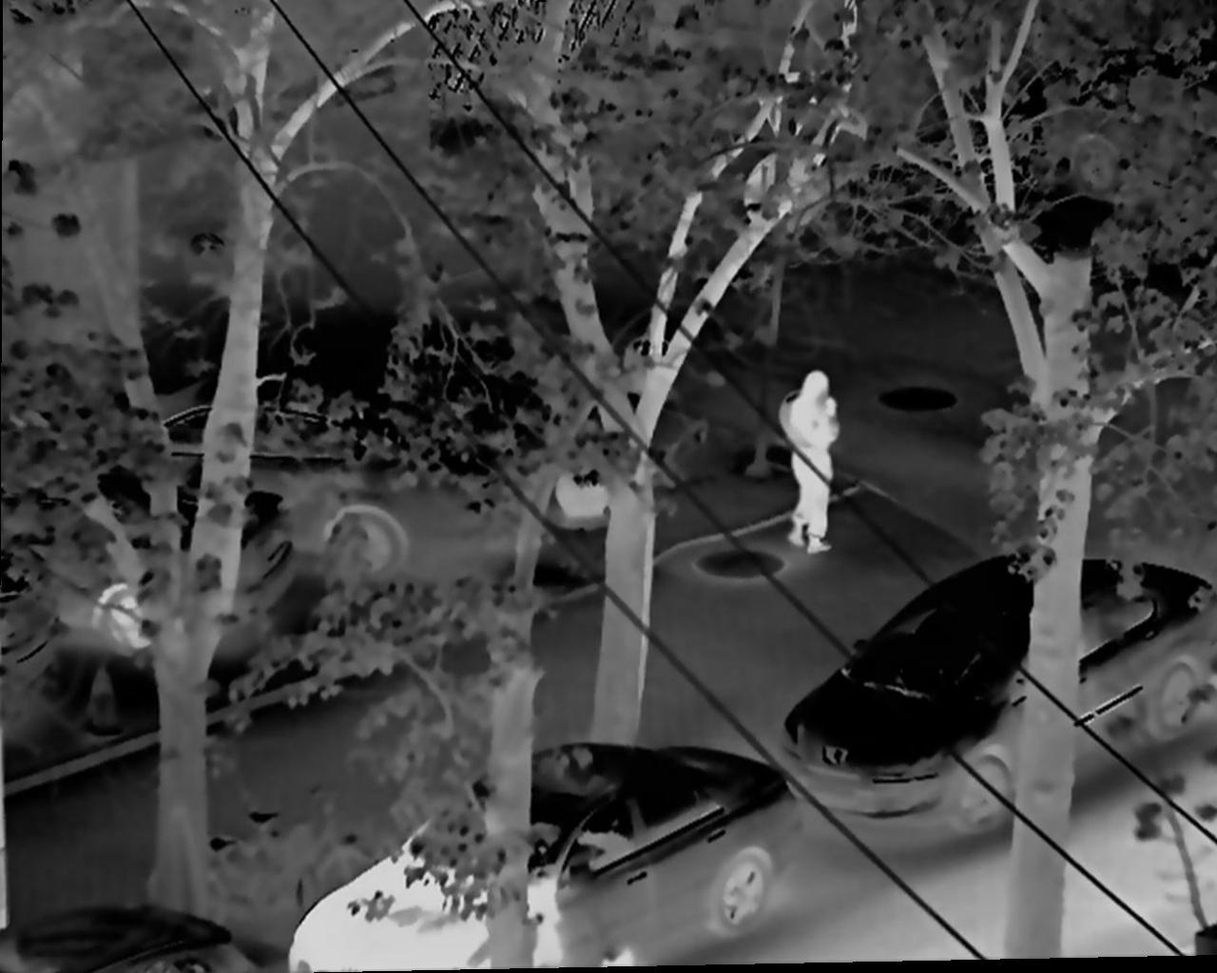person: (759, 367, 844, 556)
